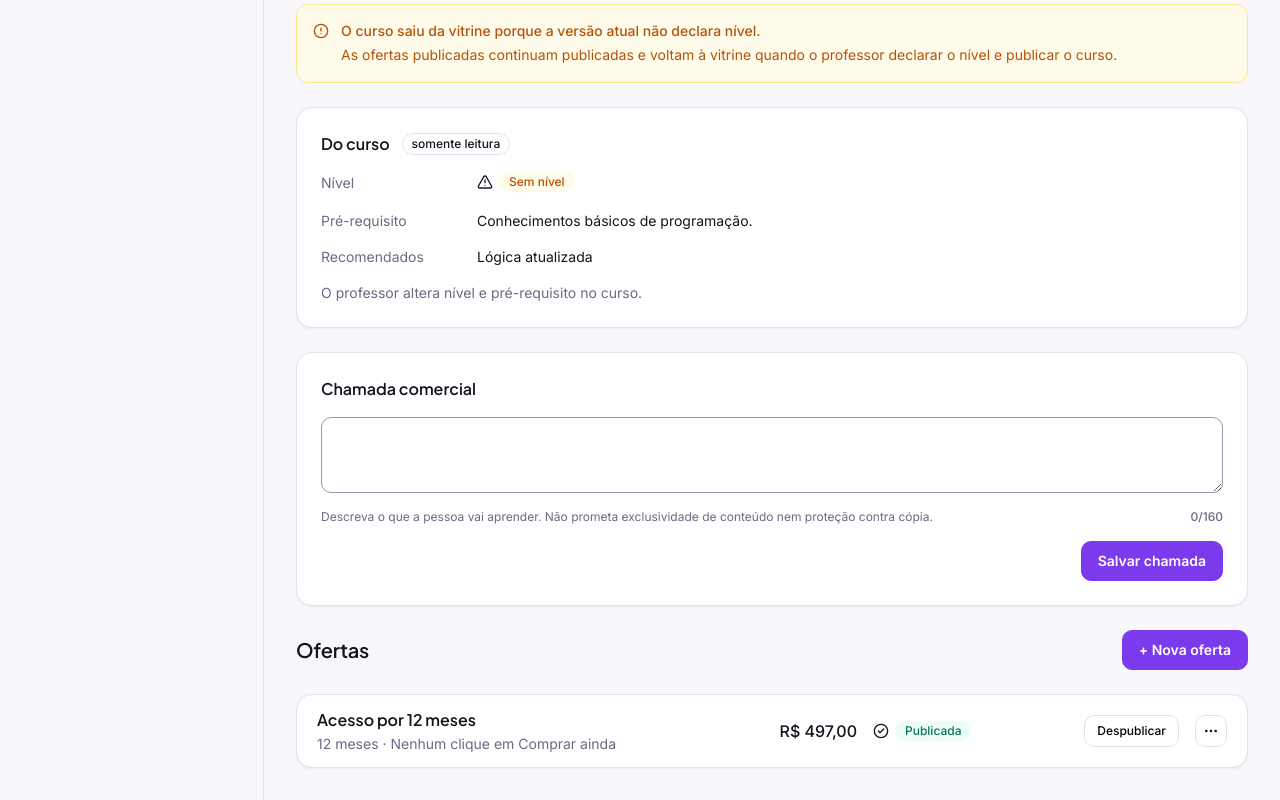
it: catalog offer price and period changes › saves a name change directly without confirmation
(page scrolled)
Click the button named "Ações de Acesso por 12 meses". click: (1211, 731)
box: [1195,715,1227,747]
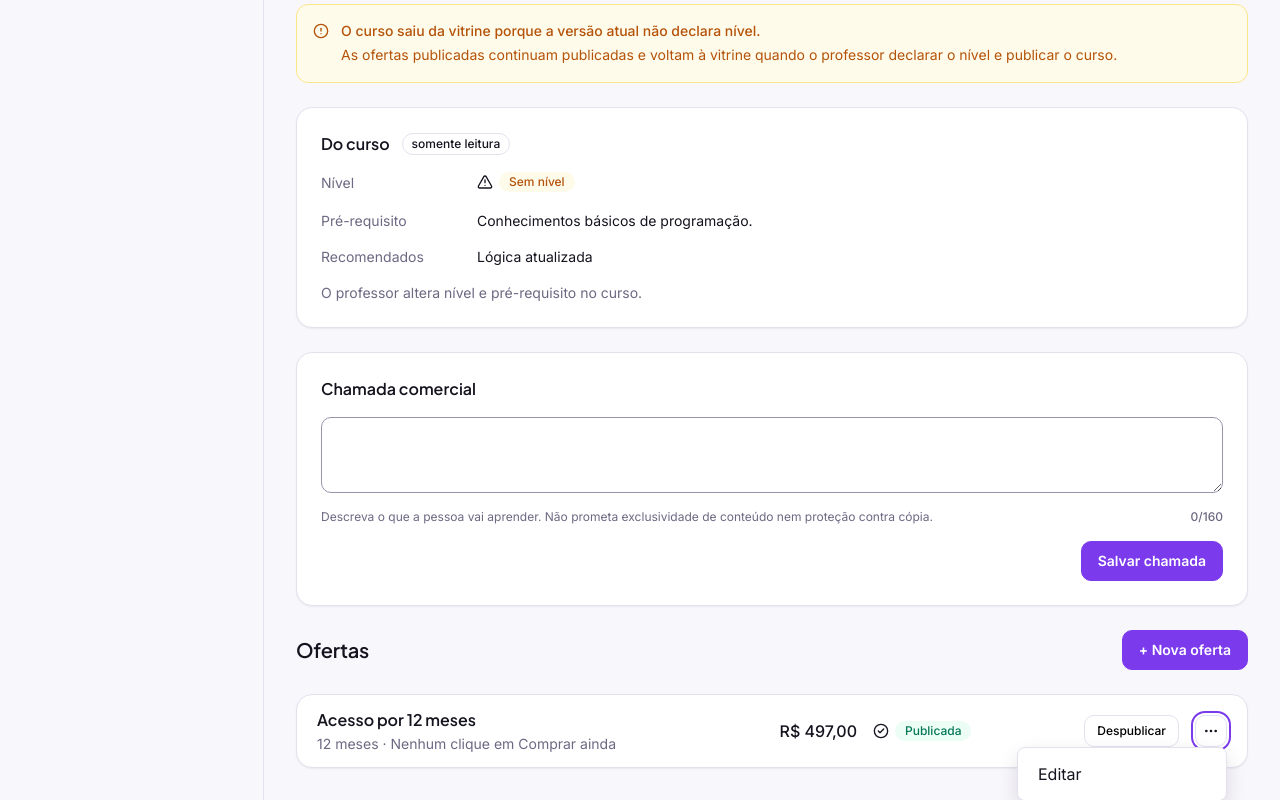
Click the button "Editar". click: (1122, 774)
box: [1026,756,1218,792]
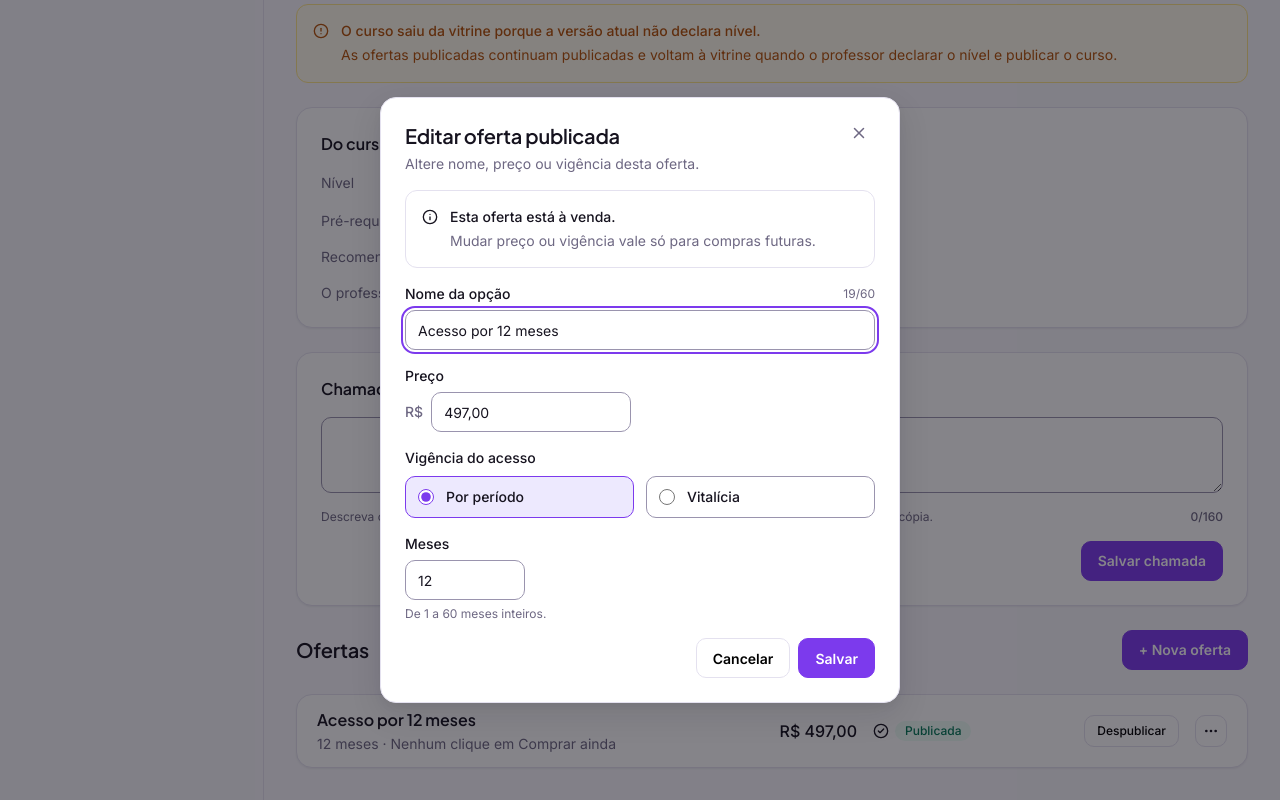
Clear the field labelled "Nome da opção". click: (640, 330)
box: [405,310,875,350]
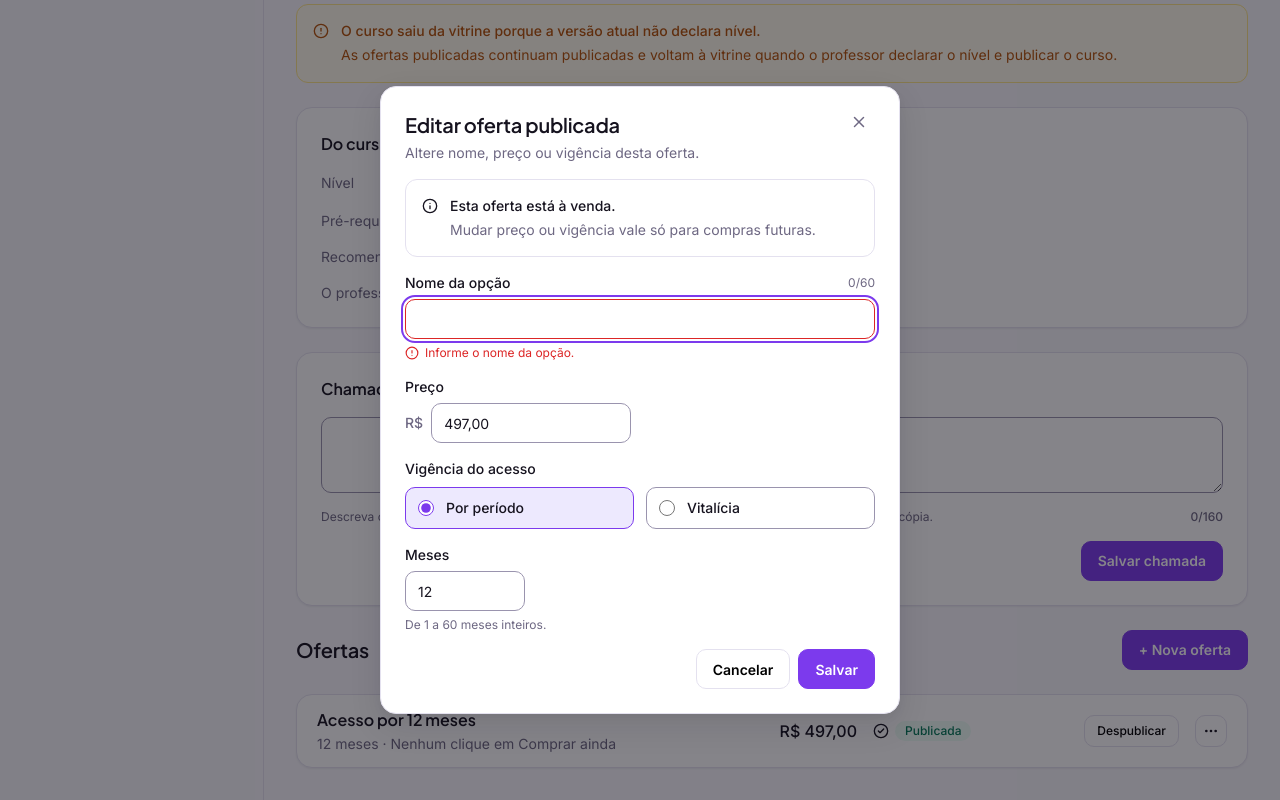
Type "Outro nome" into the field labelled "Nome da opção". click: (640, 319)
box: [405,299,875,339]
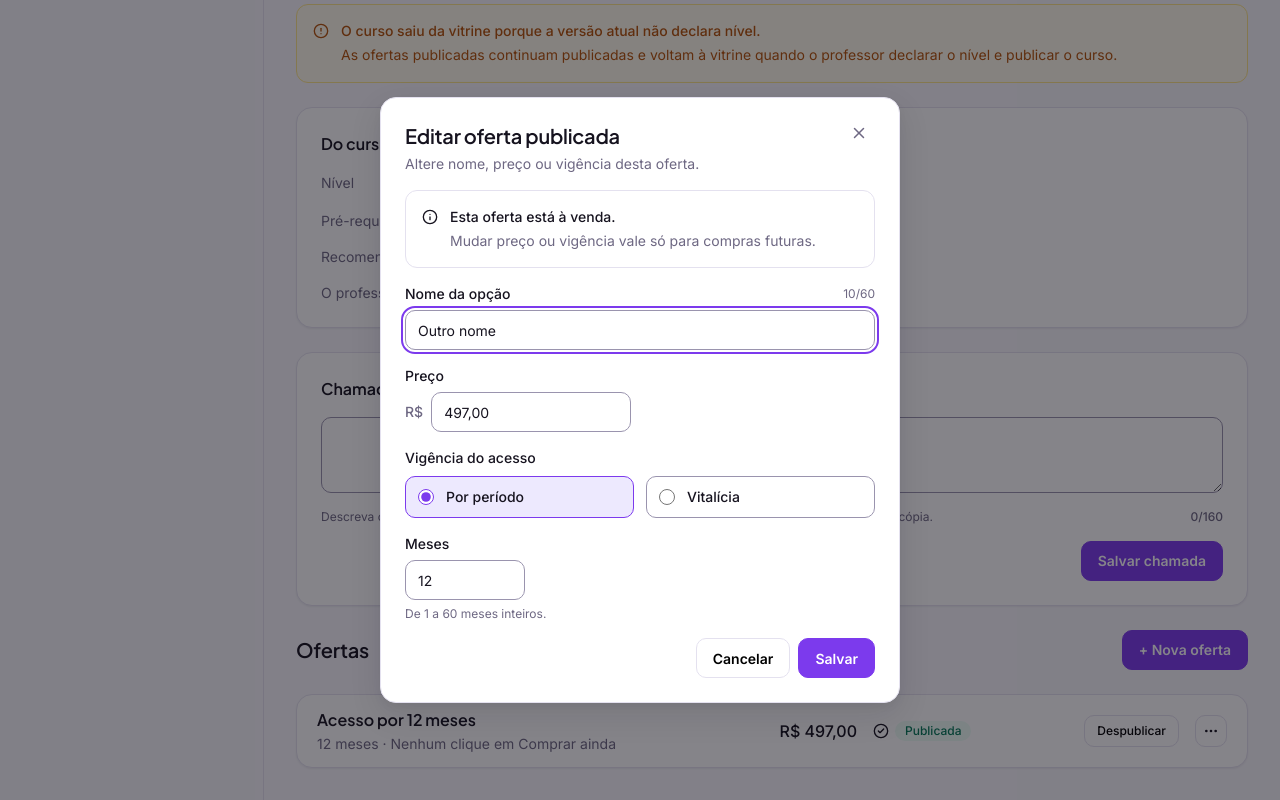
Click the button "Salvar". click: (837, 658)
box: [798,638,875,678]
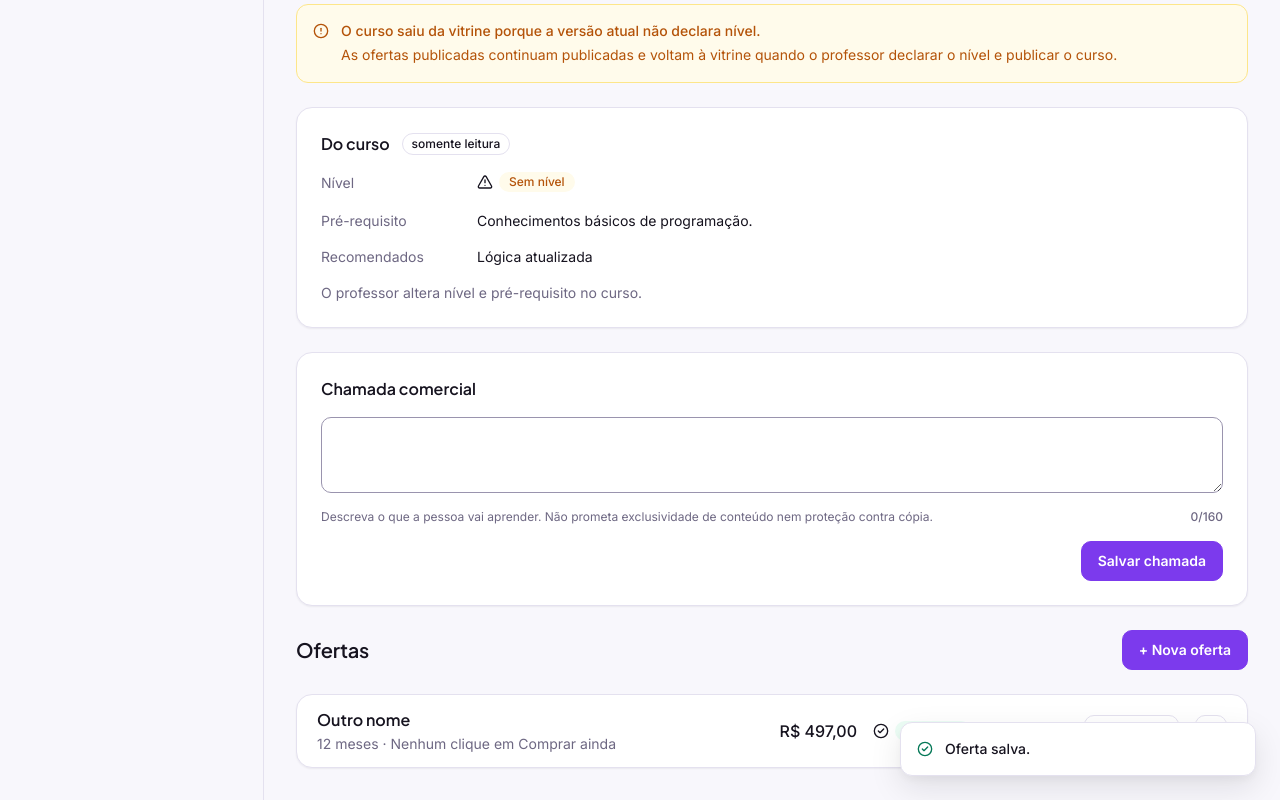
Expected: the text "Oferta salva." is shown, [900,722,1256,776]
